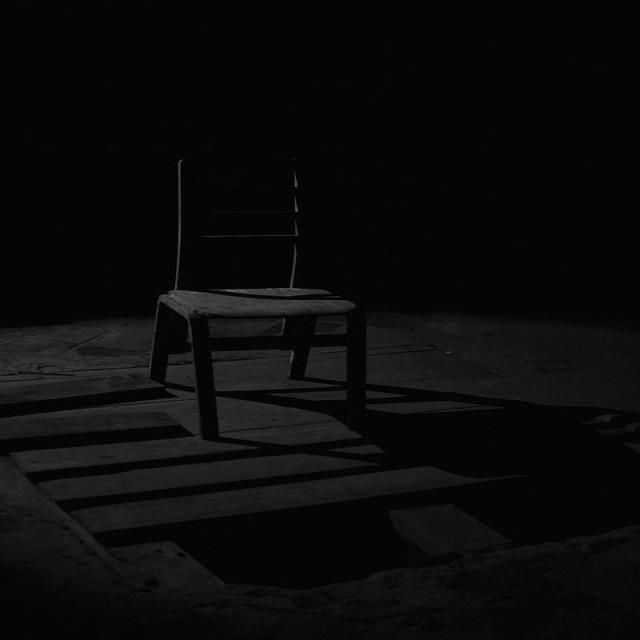chair: (123, 144, 403, 447)
